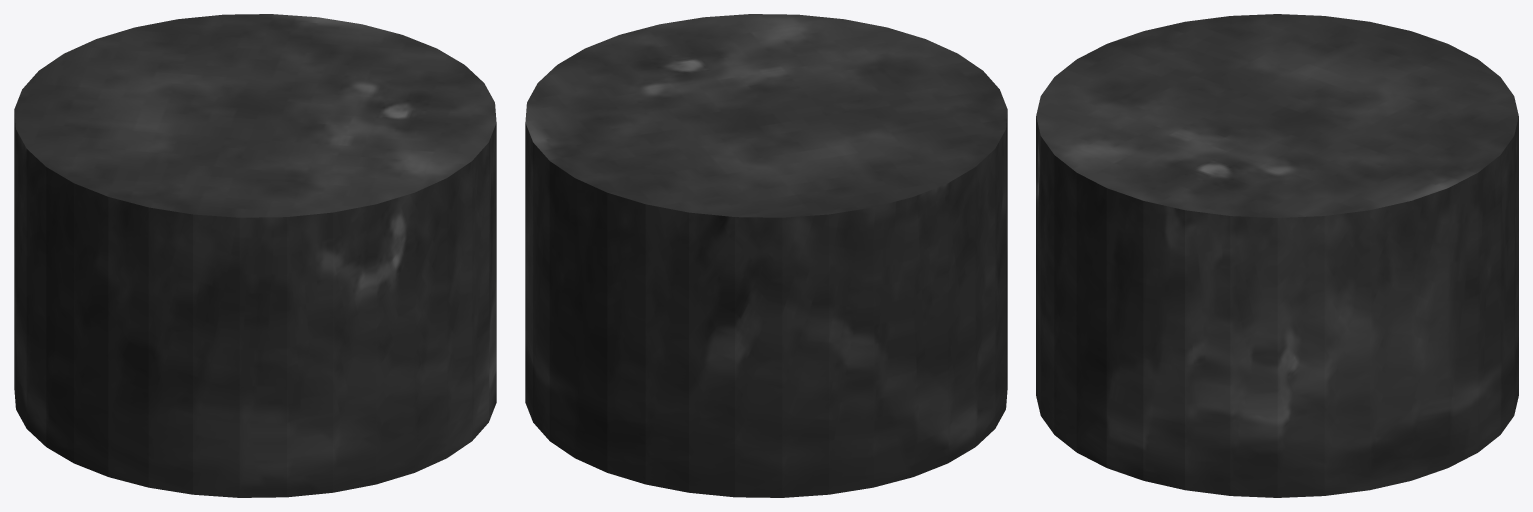
Rendered from piece3.fbx.
3 renders of one model, left to right at view 1: azimuth 30°, elevation 25°; view 2: azimuth 150°, elevation 25°; view 3: azimuth 270°, elevation 25°, orthographic.
Parts seen in each view (by area): view 1: Circle; view 2: Circle; view 3: Circle.
Boxes of the visible parts, x1,y1,x2,y2 form: Circle: (14, 14, 496, 497); Circle: (525, 14, 1007, 497); Circle: (1036, 14, 1518, 497).
Size of the model in its own units: 1.4 by 0.8959 by 1.4.
